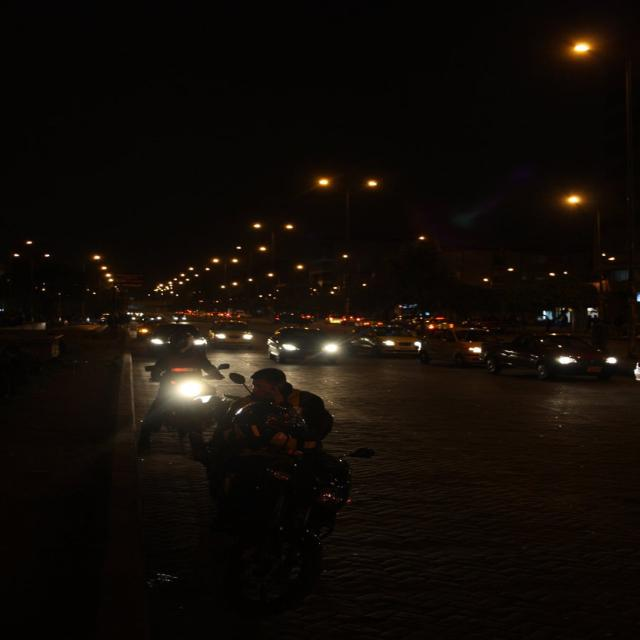Motorbike: (178, 396, 384, 618)
